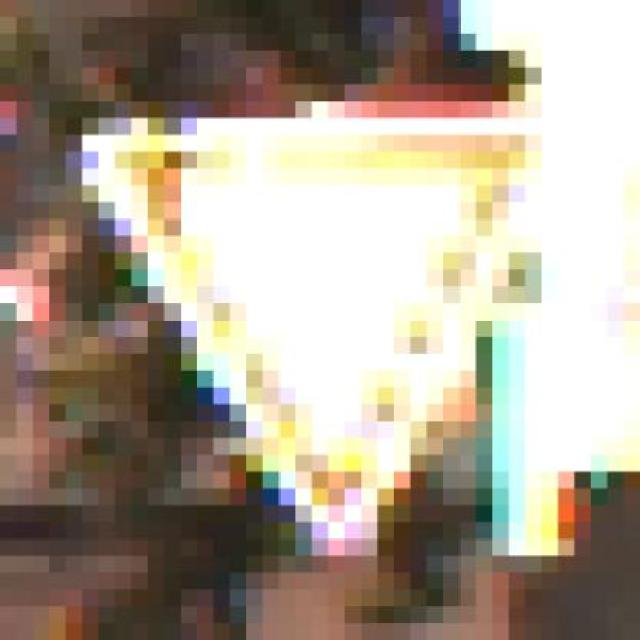Give Way: (65, 84, 542, 624)
